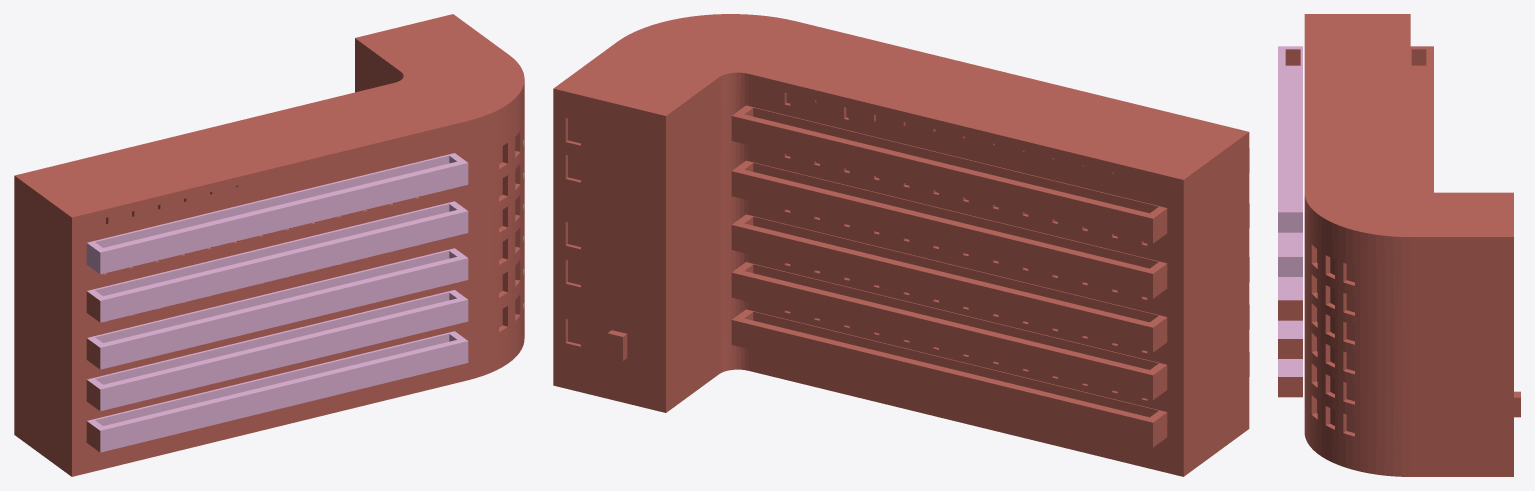
Rendered from 930_quensplate.fbx.
3 renders of one model, left to right at view 1: azimuth 30°, elevation 25°; view 2: azimuth 150°, elevation 25°; view 3: azimuth 270°, elevation 25°, orthographic. The views are drawn at different scales.
Parts seen in each view (by area): view 1: 930 Queens Plate V1.001; view 2: 930 Queens Plate V1.001; view 3: 930 Queens Plate V1.001.
Boxes of the visible parts, x1=… form: 930 Queens Plate V1.001: x1=14, y1=14, x2=524, y2=476; 930 Queens Plate V1.001: x1=553, y1=14, x2=1249, y2=476; 930 Queens Plate V1.001: x1=1278, y1=14, x2=1520, y2=476.
Size of the model in its own units: 4113 by 2061 by 1892.
